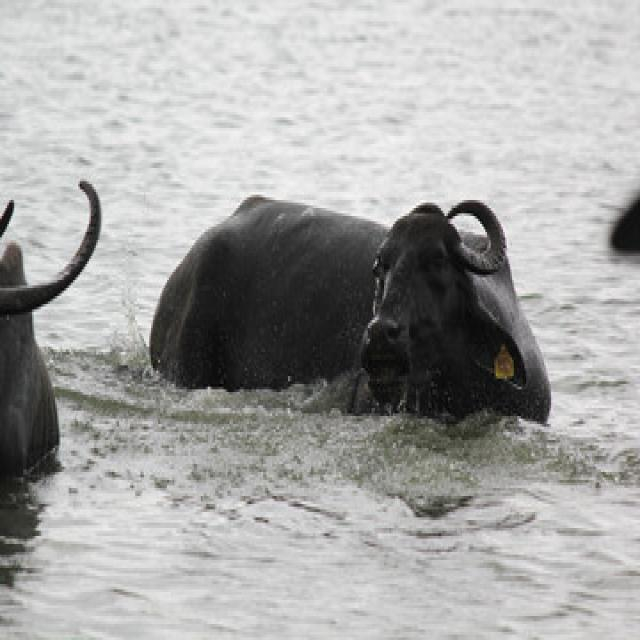Buffalo: (147, 189, 562, 428)
